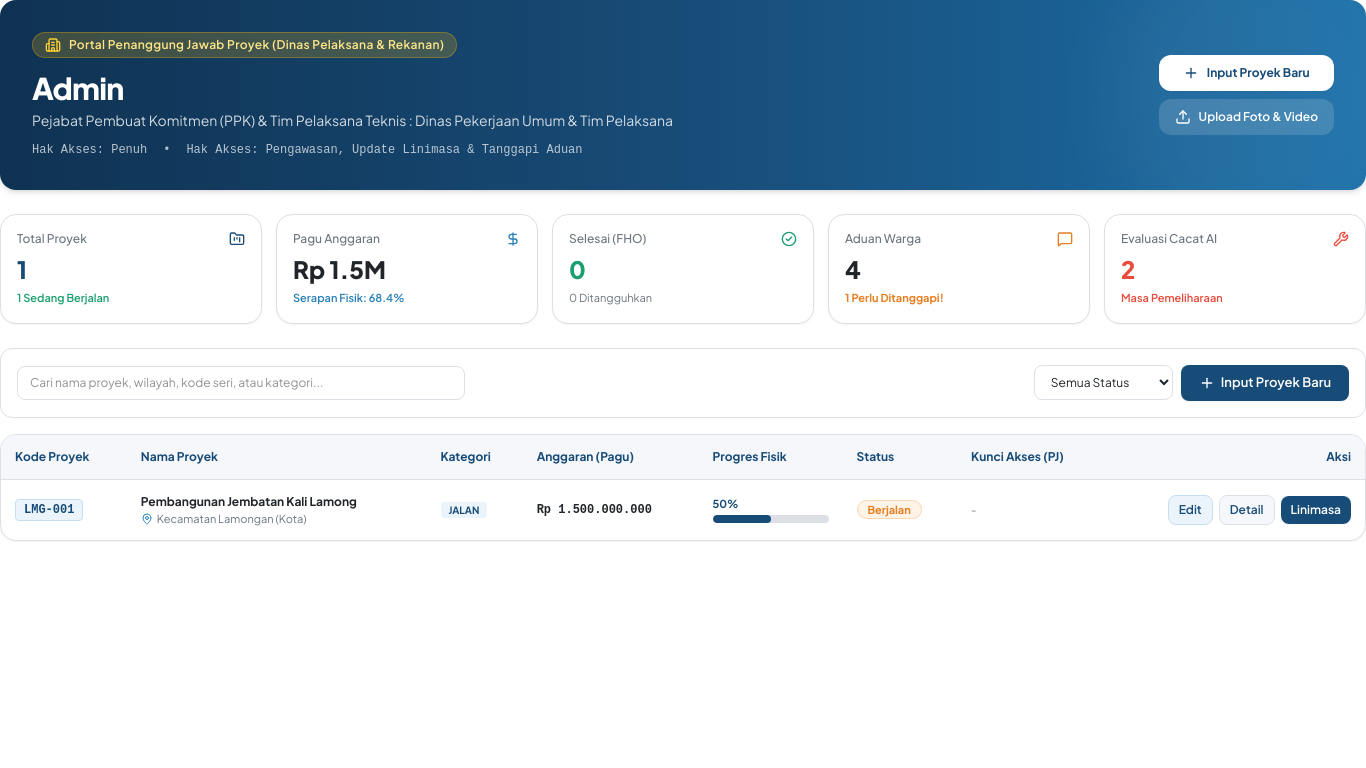
AdminDinasDashboard Project Edit Validation › submits valid edit successfully and updates project in list
The width and height of the screenshot is (1366, 768).
Click the button "Edit" at (1190, 510), box left=1168, top=495, right=1213, bottom=525
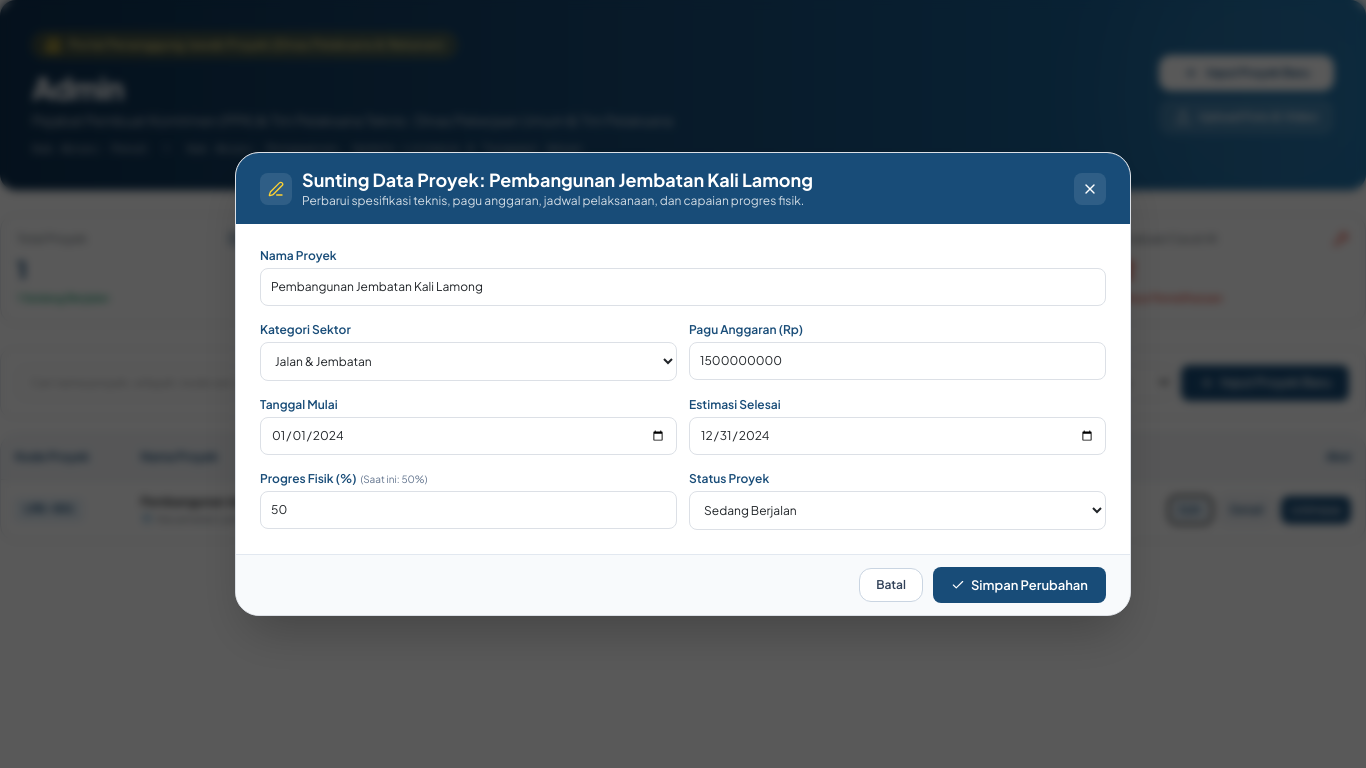
Expected: the heading "Sunting Data Proyek: Pembangunan Jembatan Kali Lamong" is shown, left=302, top=169, right=813, bottom=191
Replace the text in the field labelled "Nama Proyek" with "Pembangunan Jembatan Kali Lamong Tahap 2" at (683, 287), box left=260, top=268, right=1106, bottom=306
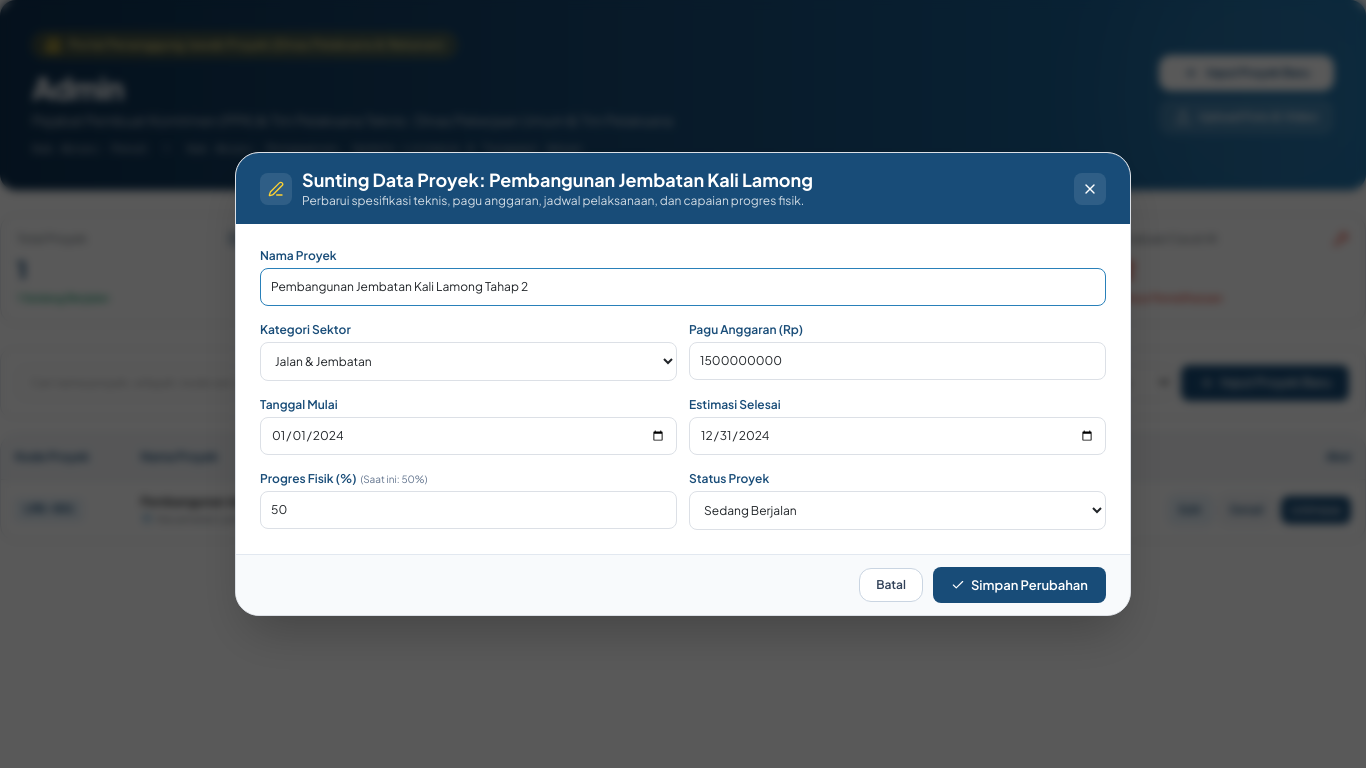
Clear the number field labelled "Progres Fisik (%)(Saat ini: 50%)" at (468, 510), box left=260, top=491, right=677, bottom=529
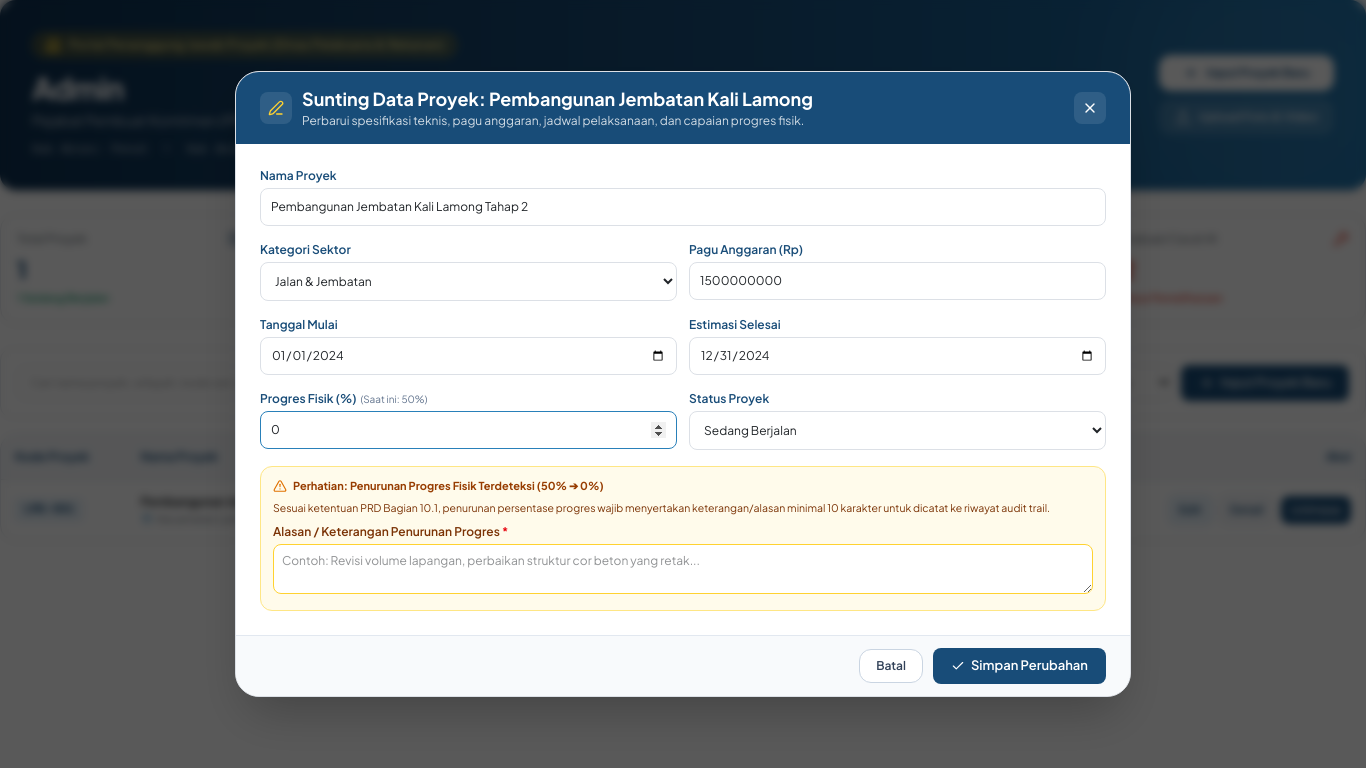
Type "65" into the number field labelled "Progres Fisik (%)(Saat ini: 50%)" at (468, 430), box left=260, top=411, right=677, bottom=449
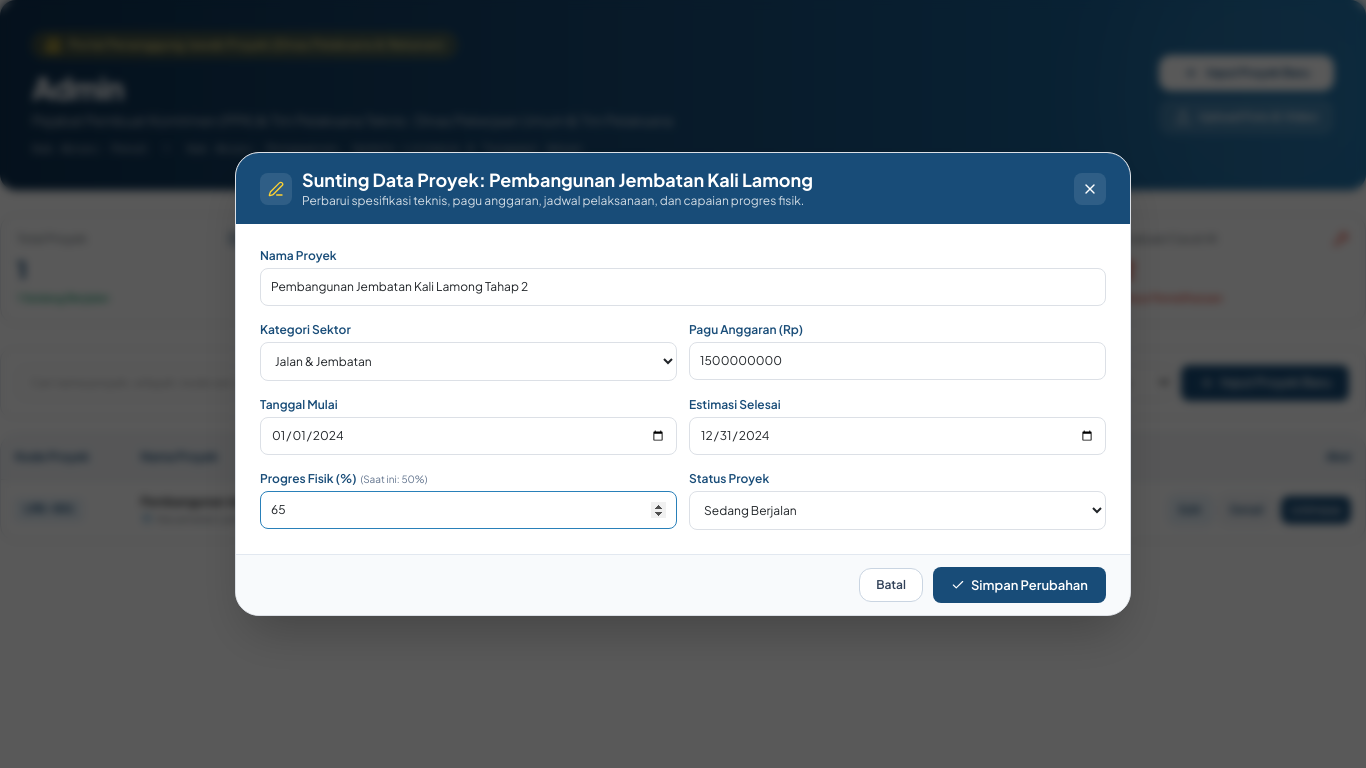
Click the button "Simpan Perubahan" at (1019, 585), box left=933, top=567, right=1106, bottom=603
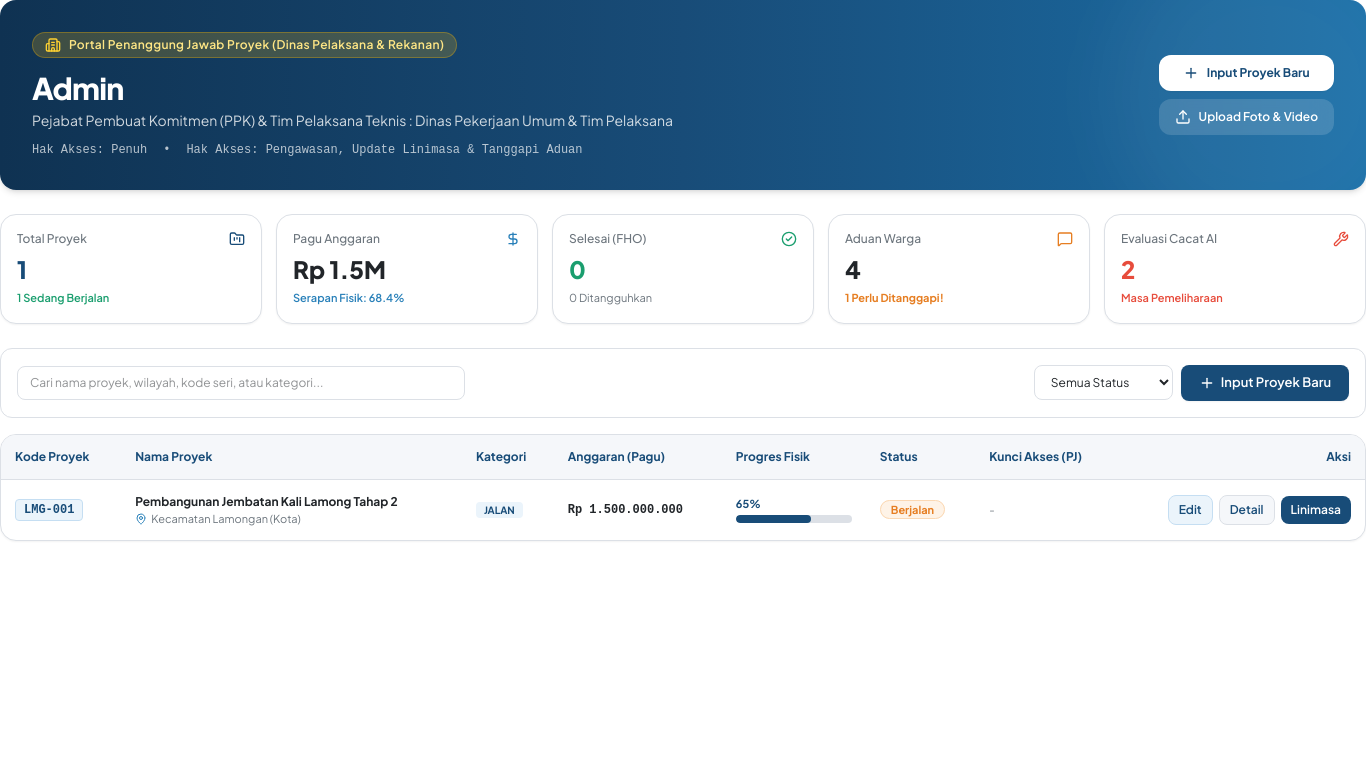
Expected: the heading "Sunting Data Proyek" is gone
Expected: the text "Pembangunan Jembatan Kali Lamong Tahap 2" is shown, left=135, top=494, right=398, bottom=509
